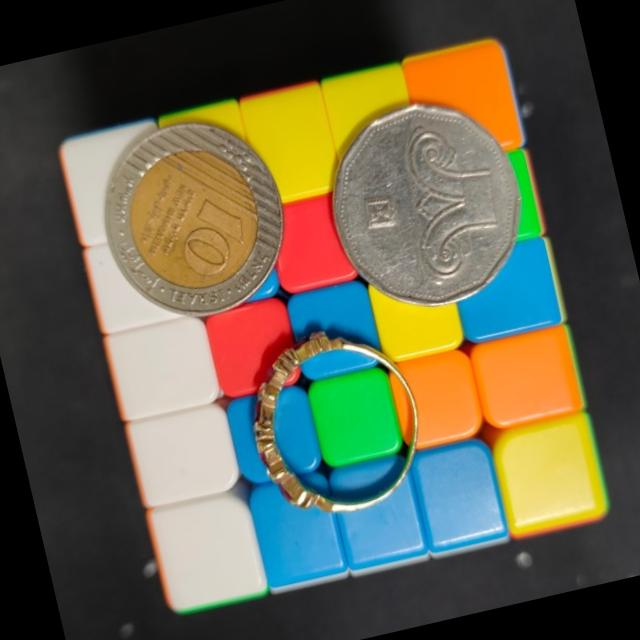10-shekel: (82, 101, 309, 334)
5-shekel: (314, 84, 538, 319)
